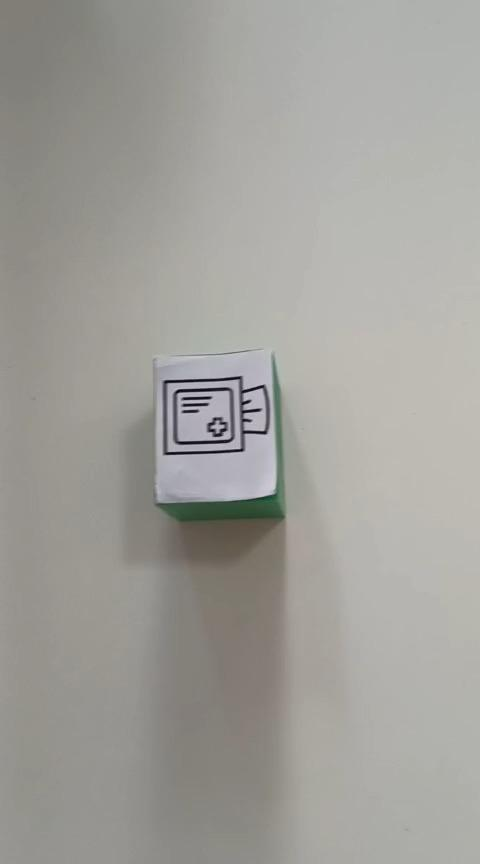Gauze: (151, 346, 285, 521)
